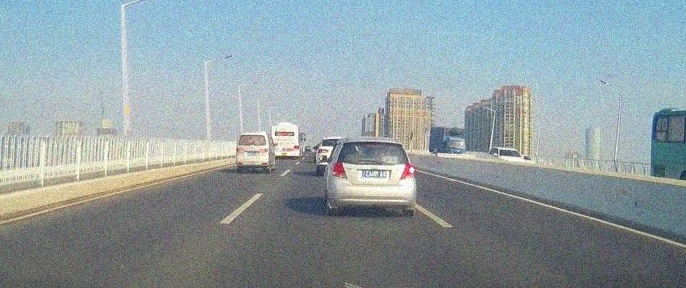L_light: (332, 161, 348, 179), (237, 148, 244, 152)
R_light: (400, 162, 415, 180), (260, 148, 268, 152)
T_light: (367, 142, 380, 146), (249, 135, 255, 137)
day-no: (236, 131, 269, 173)
day-right: (327, 136, 417, 216)
